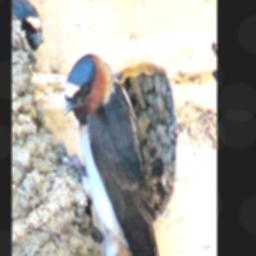Swallow: (64, 51, 178, 256)
